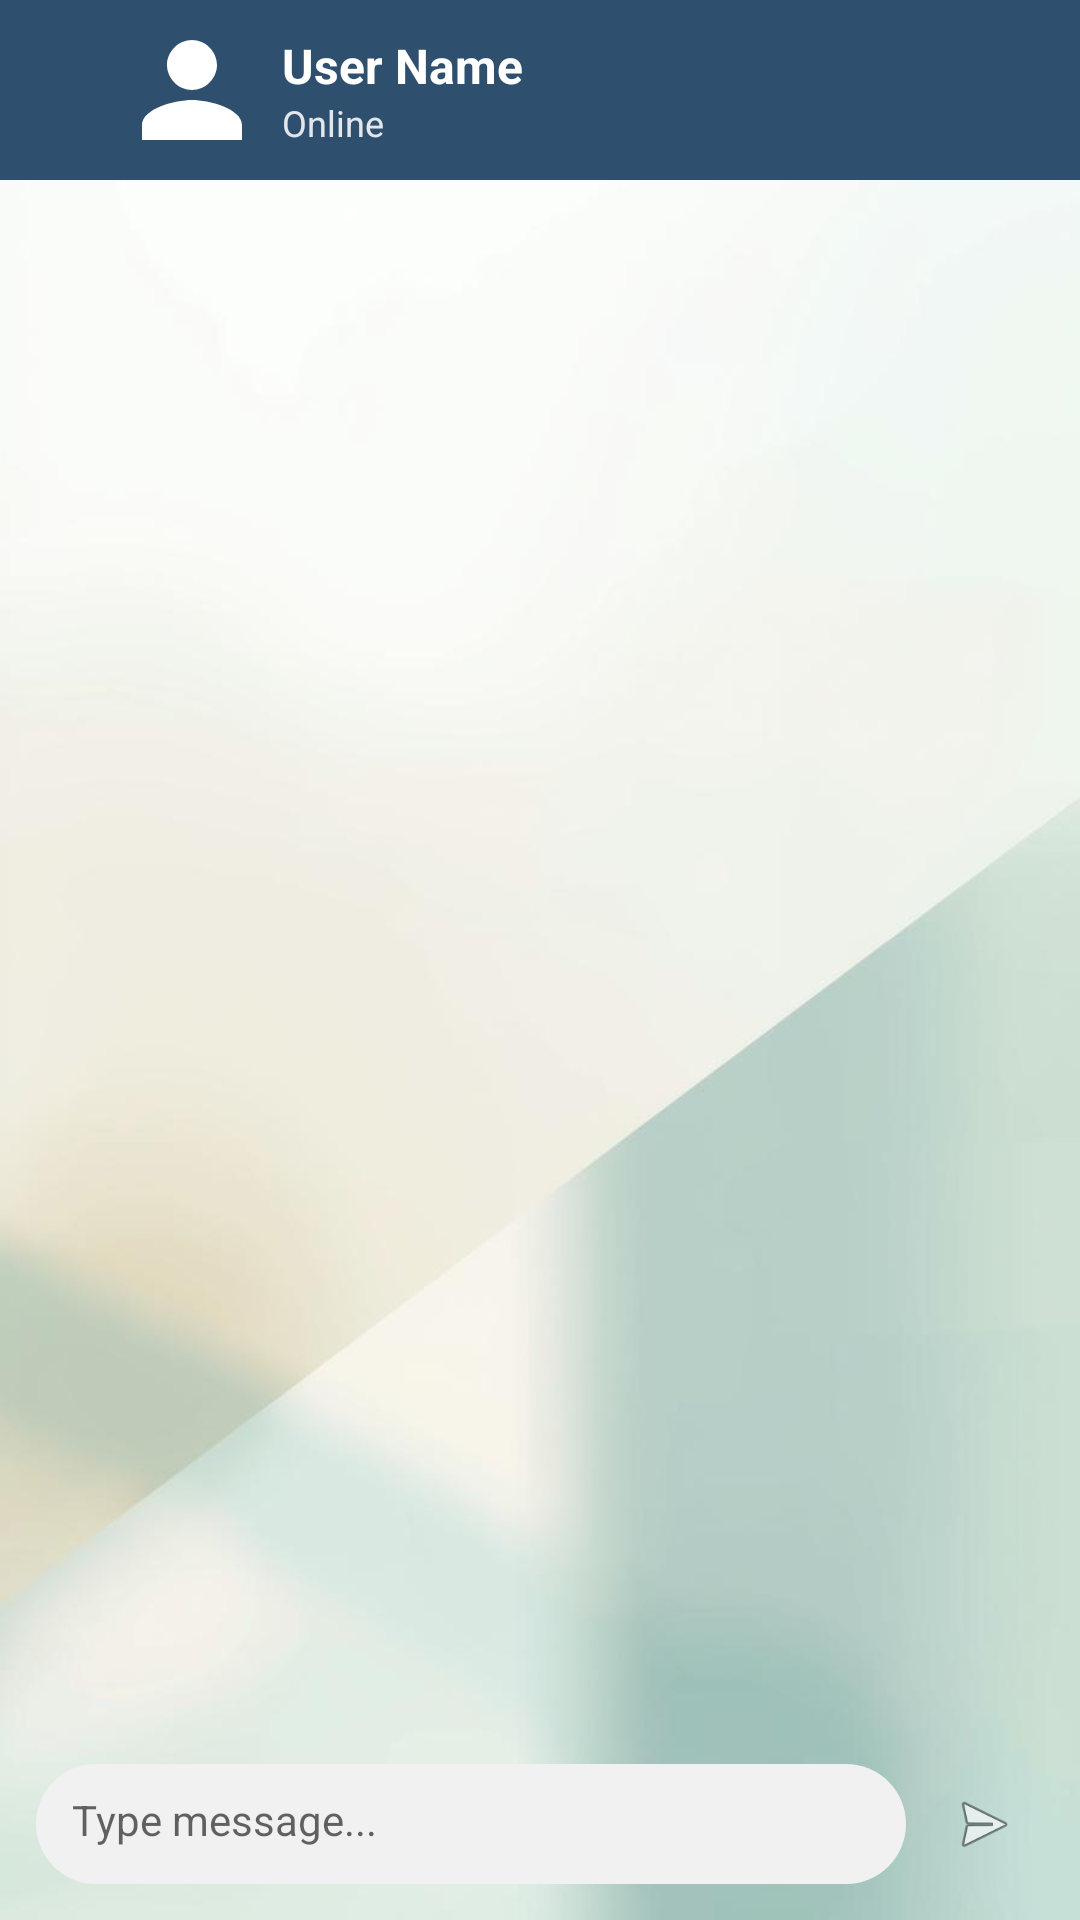

Icon click points for this 1080×1920 phone screenshot, format point (x, y):
profile: point (192, 90)
send: point (984, 1824)
